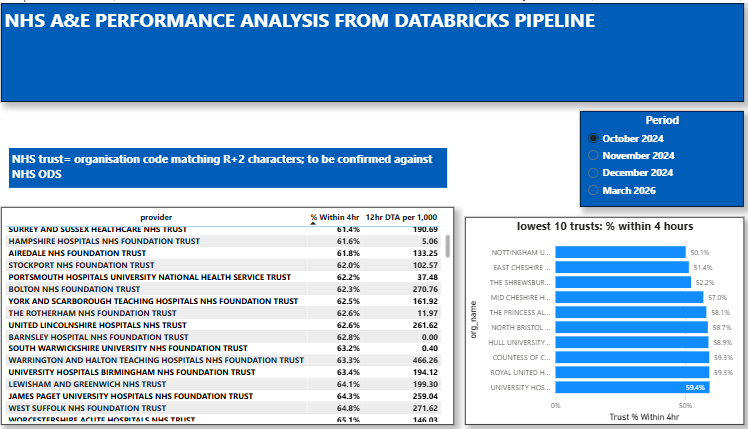

The page's visual inventory and layout, read from the dashboard file:
{"tool":"powerbi","page":{"name":"Trust Variation","canvas":[1280,720],"ordinal":1},"visuals":[{"type":"textbox","box":[10.1,0,1248.1,166.3],"z":0},{"type":"slicer","title":"Period ","fields":{"Values":["trust_monthly.period_date"]},"box":[982.7,181.4,275.5,161.3],"z":1000},{"type":"tableEx","fields":{"Values":["trust_monthly.org_name","trust_monthly.Trust % Within 4hr","trust_monthly.12hr DTA per 1,000"]},"box":[10.1,342.7,760.9,366.2],"z":1001},{"type":"clusteredBarChart","title":"lowest 10 trusts: % within 4 hours","fields":{"Category":["trust_monthly.org_name"],"Y":["trust_monthly.Trust % Within 4hr"]},"box":[789.5,359.5,468.7,349.4],"z":1002},{"type":"textbox","box":[23.5,243.6,735.7,67.2],"z":1003}]}

Visuals, with their boxes in screenshot pixels (x1, y1, x2, y2), scaled from the page's 1280x720 canvas onto the 748x429 screenshot:
textbox: <region>6, 0, 735, 99</region>
"Period " slicer: <region>574, 108, 735, 204</region>
tableEx - trust_monthly.org_name x trust_monthly.Trust % Within 4hr: <region>6, 204, 451, 422</region>
"lowest 10 trusts: % within 4 hours" clusteredBarChart: <region>461, 214, 735, 422</region>
textbox: <region>14, 145, 444, 185</region>
